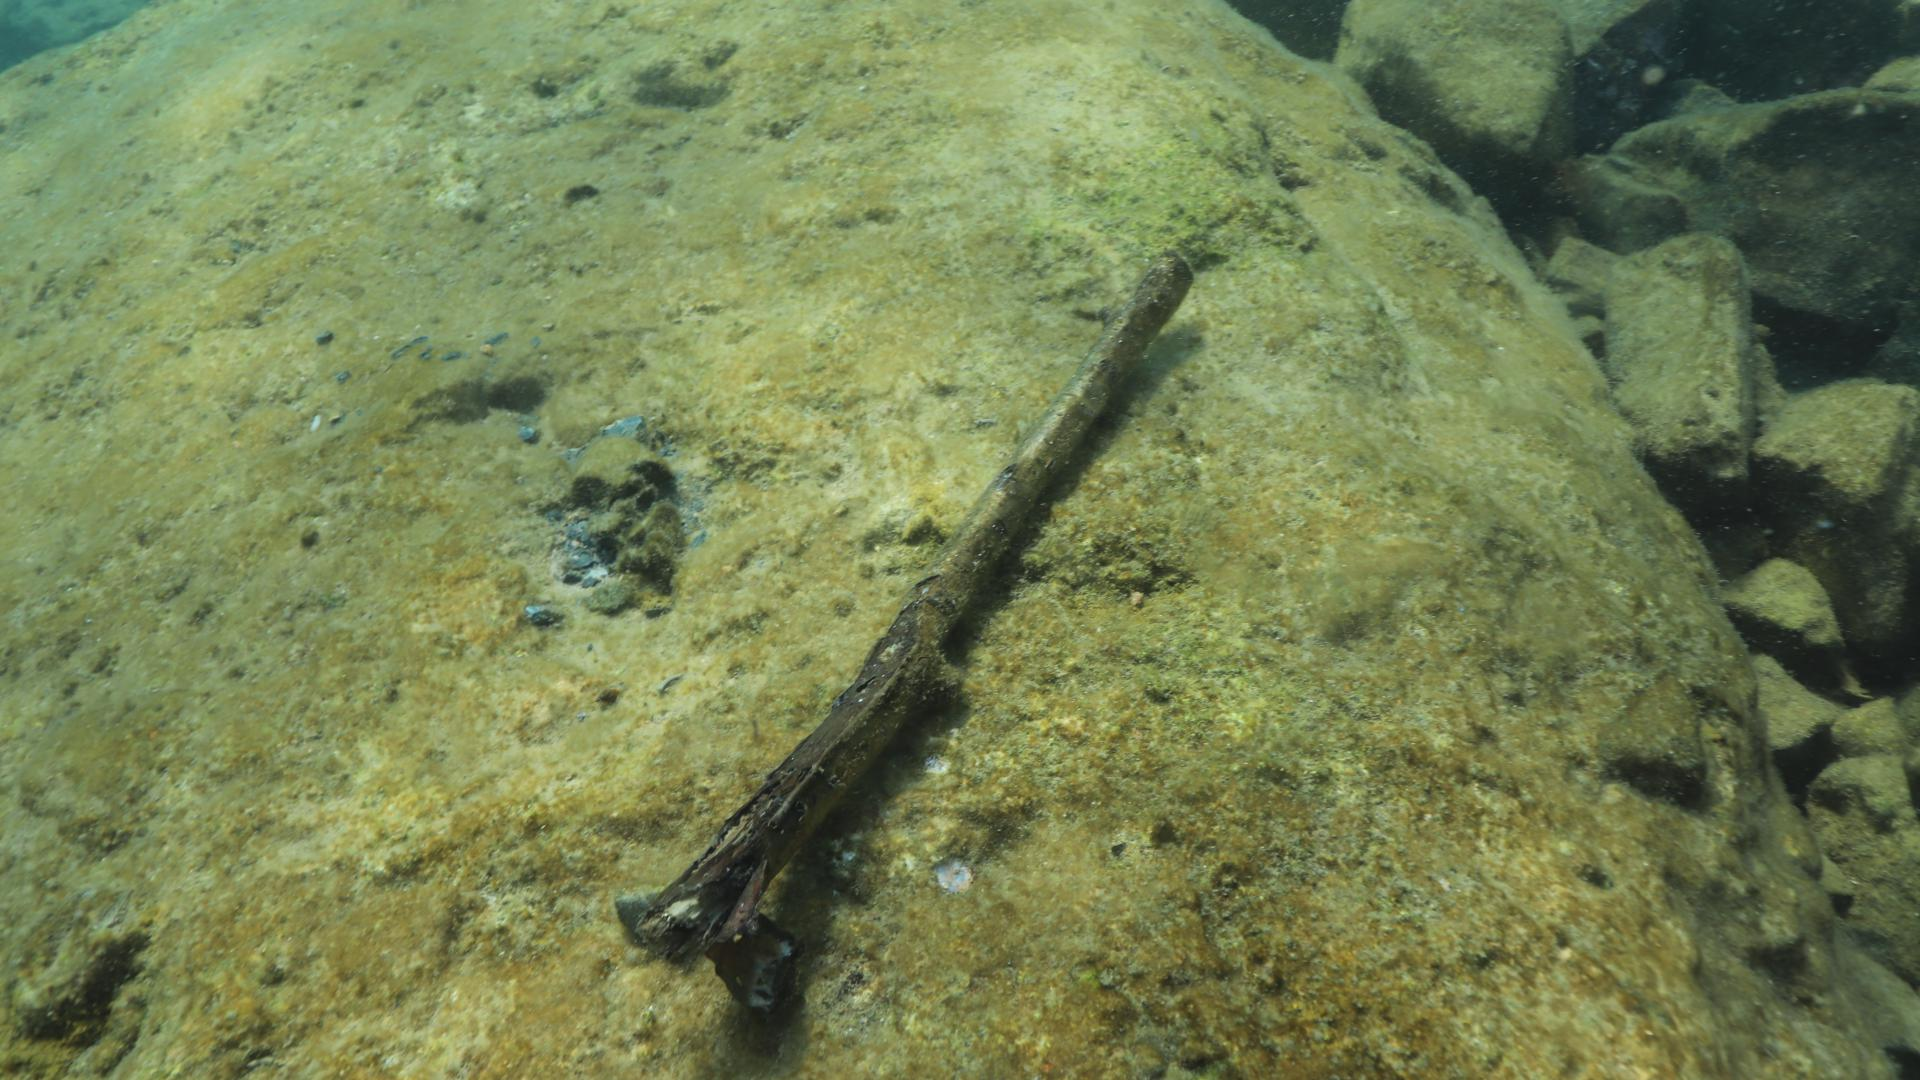wood: (630, 255, 1193, 1014)
